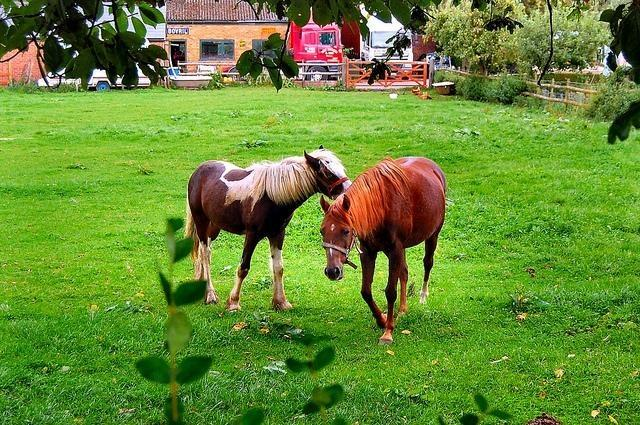truck: (292, 6, 344, 73)
